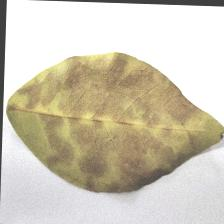canker: (39, 79, 192, 169)
